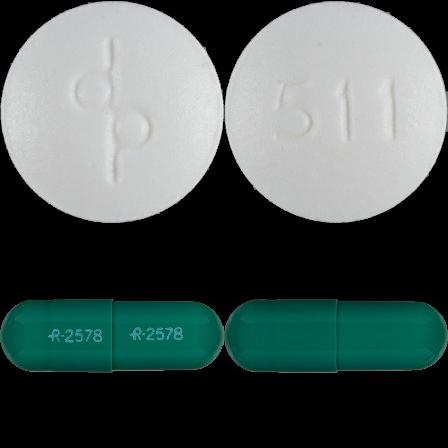54868-4860: (0, 0, 224, 224)
